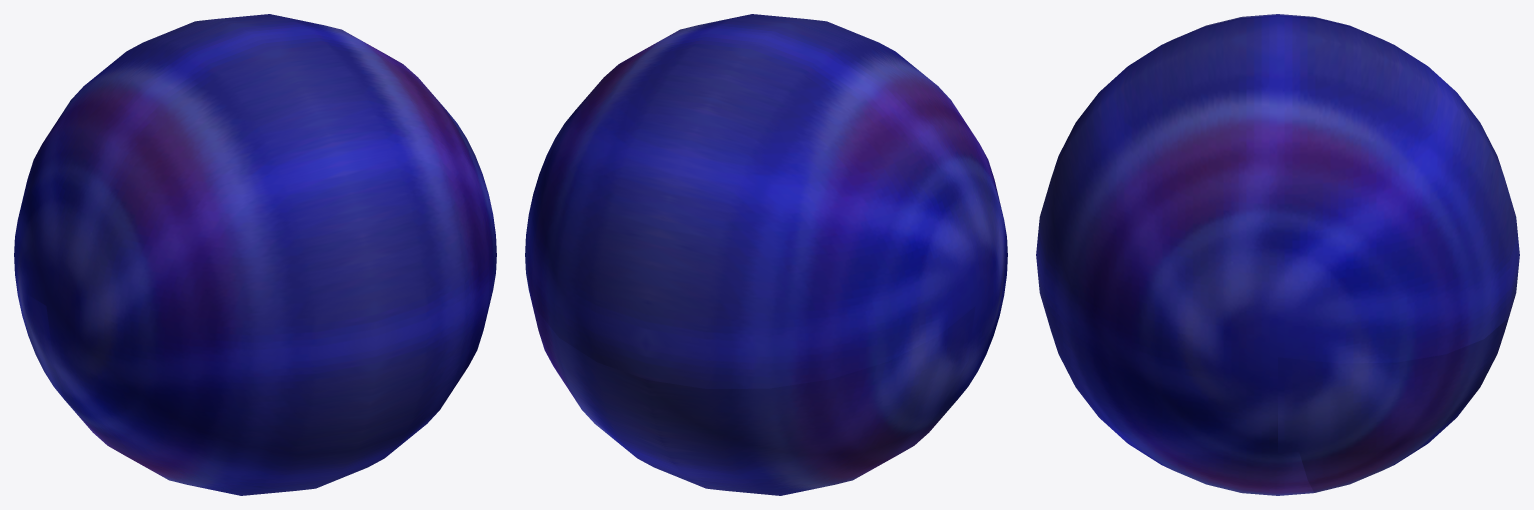
Rendered from Spinball.obj.
3 views of the same model, side by side, from view 1: azimuth 30°, elevation 25°; view 2: azimuth 150°, elevation 25°; view 3: azimuth 270°, elevation 25° (orthographic).
Visible parts, largest first — view 1: 100, 101; view 2: 100, 101; view 3: 100, 101.
Boxes of the visible parts, <box> form: 100: <box>14,14,496,495</box>; 101: <box>15,275,63,398</box>; 100: <box>525,14,1007,453</box>; 101: <box>526,275,975,495</box>; 100: <box>1036,14,1519,495</box>; 101: <box>1278,297,1514,492</box>.
Size of the model in its own units: 8.19 by 8.19 by 8.19.
Materials: 1 (1 with a texture image).
